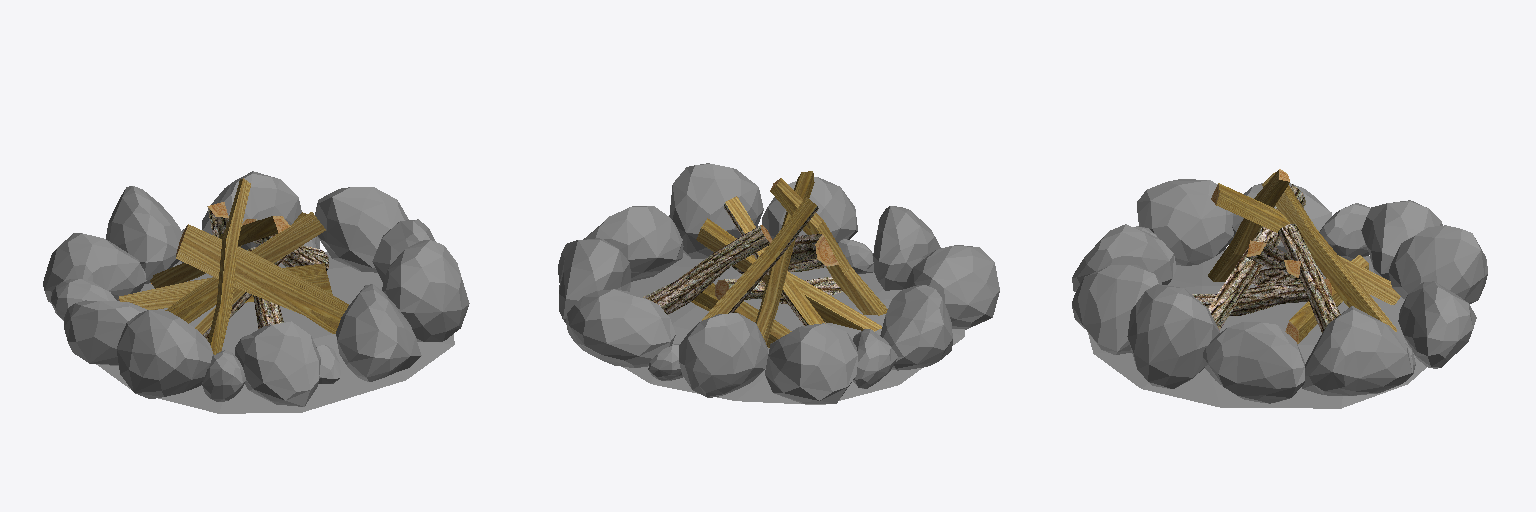
3 views of the same model, side by side, from view 1: azimuth 30°, elevation 25°; view 2: azimuth 150°, elevation 25°; view 3: azimuth 270°, elevation 25° (orthographic).
Visible parts, largest first — view 1: camp, Object016, Object005, Object010, Object009, Object007, Object012, Object002, Object003, Object004, Object001, Object006 (+3 smaller); view 2: camp, Object016, Object001, Object003, Object002, Object010, Object005, Object004, Object011, Object012, Object007, Object009 (+3 smaller); view 3: camp, Object016, Object012, Object010, Object011, Object005, Object002, Object009, Object001, Object007, Object003, Object015 (+1 smaller).
Boxes of the visible parts, box(x1,y1,x2,y2) form: camp: box(118, 178, 348, 354); Object016: box(96, 252, 454, 413); Object005: box(117, 310, 213, 398); Object010: box(382, 240, 469, 341); Object009: box(336, 284, 421, 381); Object007: box(235, 321, 320, 406); Object012: box(315, 187, 408, 272); Object002: box(106, 186, 182, 283); Object003: box(43, 233, 146, 302); Object004: box(64, 300, 146, 365); Object001: box(202, 171, 301, 249); Object006: box(202, 350, 245, 401); camp: box(643, 171, 887, 347); Object016: box(623, 253, 964, 404); Object001: box(566, 289, 675, 367); Object003: box(765, 323, 857, 403); Object002: box(679, 313, 767, 397); Object010: box(669, 163, 763, 258); Object005: box(903, 245, 999, 329); Object004: box(880, 285, 952, 370); Object011: box(583, 206, 683, 281); Object012: box(558, 239, 630, 322); Object007: box(873, 206, 941, 290); Object009: box(762, 177, 857, 241); camp: box(1192, 169, 1400, 343); Object016: box(1088, 248, 1426, 408); Object012: box(1302, 306, 1412, 395); Object010: box(1127, 284, 1219, 388); Object011: box(1203, 322, 1304, 403); Object005: box(1137, 179, 1233, 265); Object002: box(1389, 225, 1487, 303); Object009: box(1072, 265, 1161, 354); Object001: box(1398, 281, 1476, 368); Object007: box(1072, 224, 1176, 291); Object003: box(1361, 200, 1442, 280); Object015: box(1319, 203, 1370, 260).
Bounding box in the file's own units: 86.95 × 36.9 × 86.
2 materials, 1 textured.